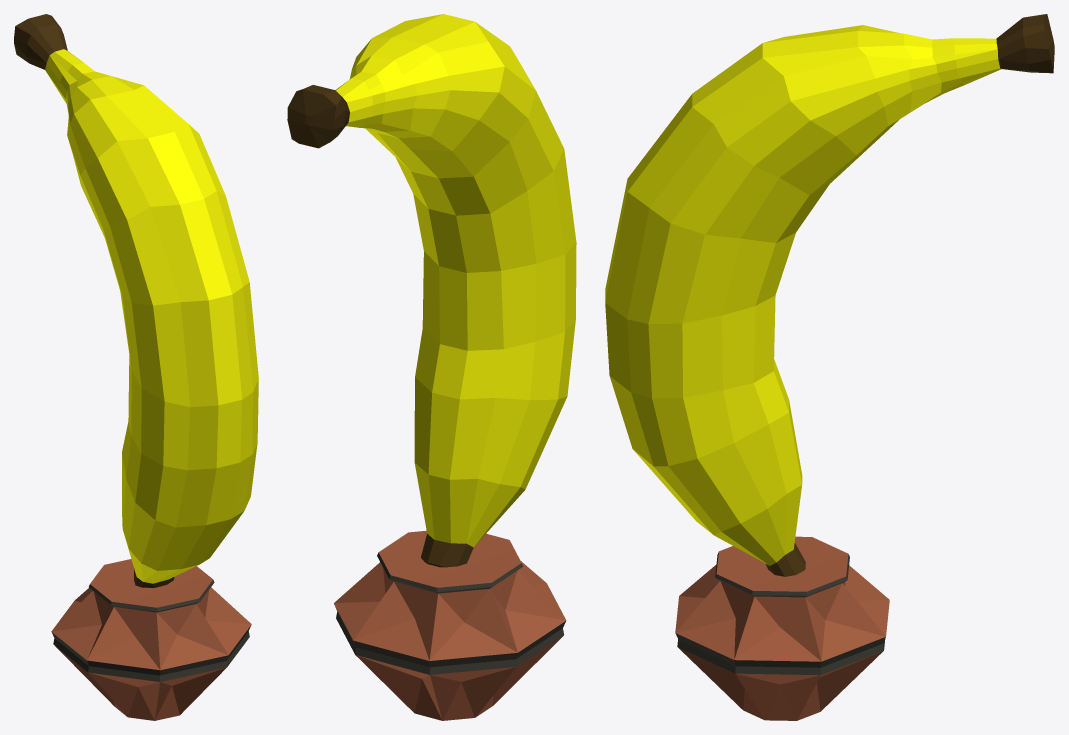
File: BananeDoreeSansMat.fbx
3 views of the same model, side by side, from view 1: azimuth 30°, elevation 25°; view 2: azimuth 150°, elevation 25°; view 3: azimuth 270°, elevation 25° (orthographic). The views are drawn at different scales.
Parts seen in each view (by area): view 1: polySurface1, pCylinder4; view 2: polySurface1, pCylinder4; view 3: polySurface1, pCylinder4.
Boxes of the visible parts, box(x1,y1,x2,y2) form: polySurface1: box(14, 14, 258, 587); pCylinder4: box(51, 559, 251, 720); polySurface1: box(287, 14, 576, 567); pCylinder4: box(334, 530, 566, 720); polySurface1: box(605, 14, 1054, 576); pCylinder4: box(675, 536, 889, 720).
Size of the model in its own units: 2.32 by 8.17 by 4.85.
